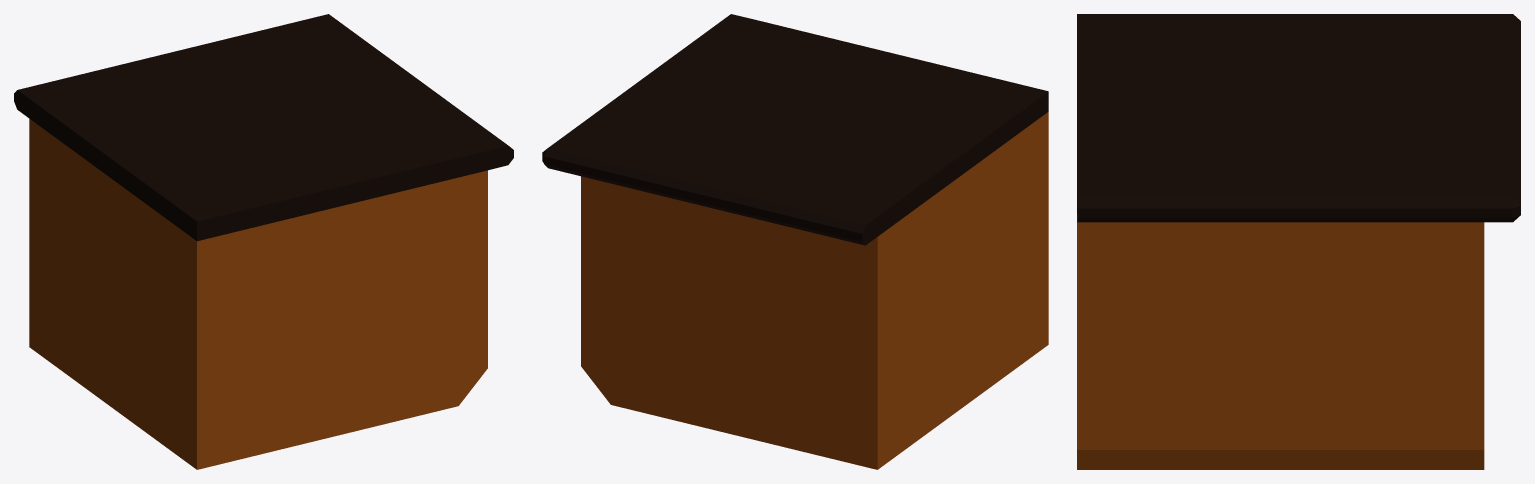
File: island corner.obj
The picture shows the model from 3 angles, left to right: view 1: azimuth 30°, elevation 25°; view 2: azimuth 150°, elevation 25°; view 3: azimuth 270°, elevation 25°; orthographic projection. The views are drawn at different scales.
Visible parts, largest first — view 1: island_corner_Cube.011; view 2: island_corner_Cube.011; view 3: island_corner_Cube.011.
Boxes of the visible parts, x1,y1,x2,y2 form: island_corner_Cube.011: (14,14,513,469); island_corner_Cube.011: (542,14,1048,469); island_corner_Cube.011: (1077,14,1520,469).
Bounding box in the file's own units: 1.84 × 1.38 × 1.84.
